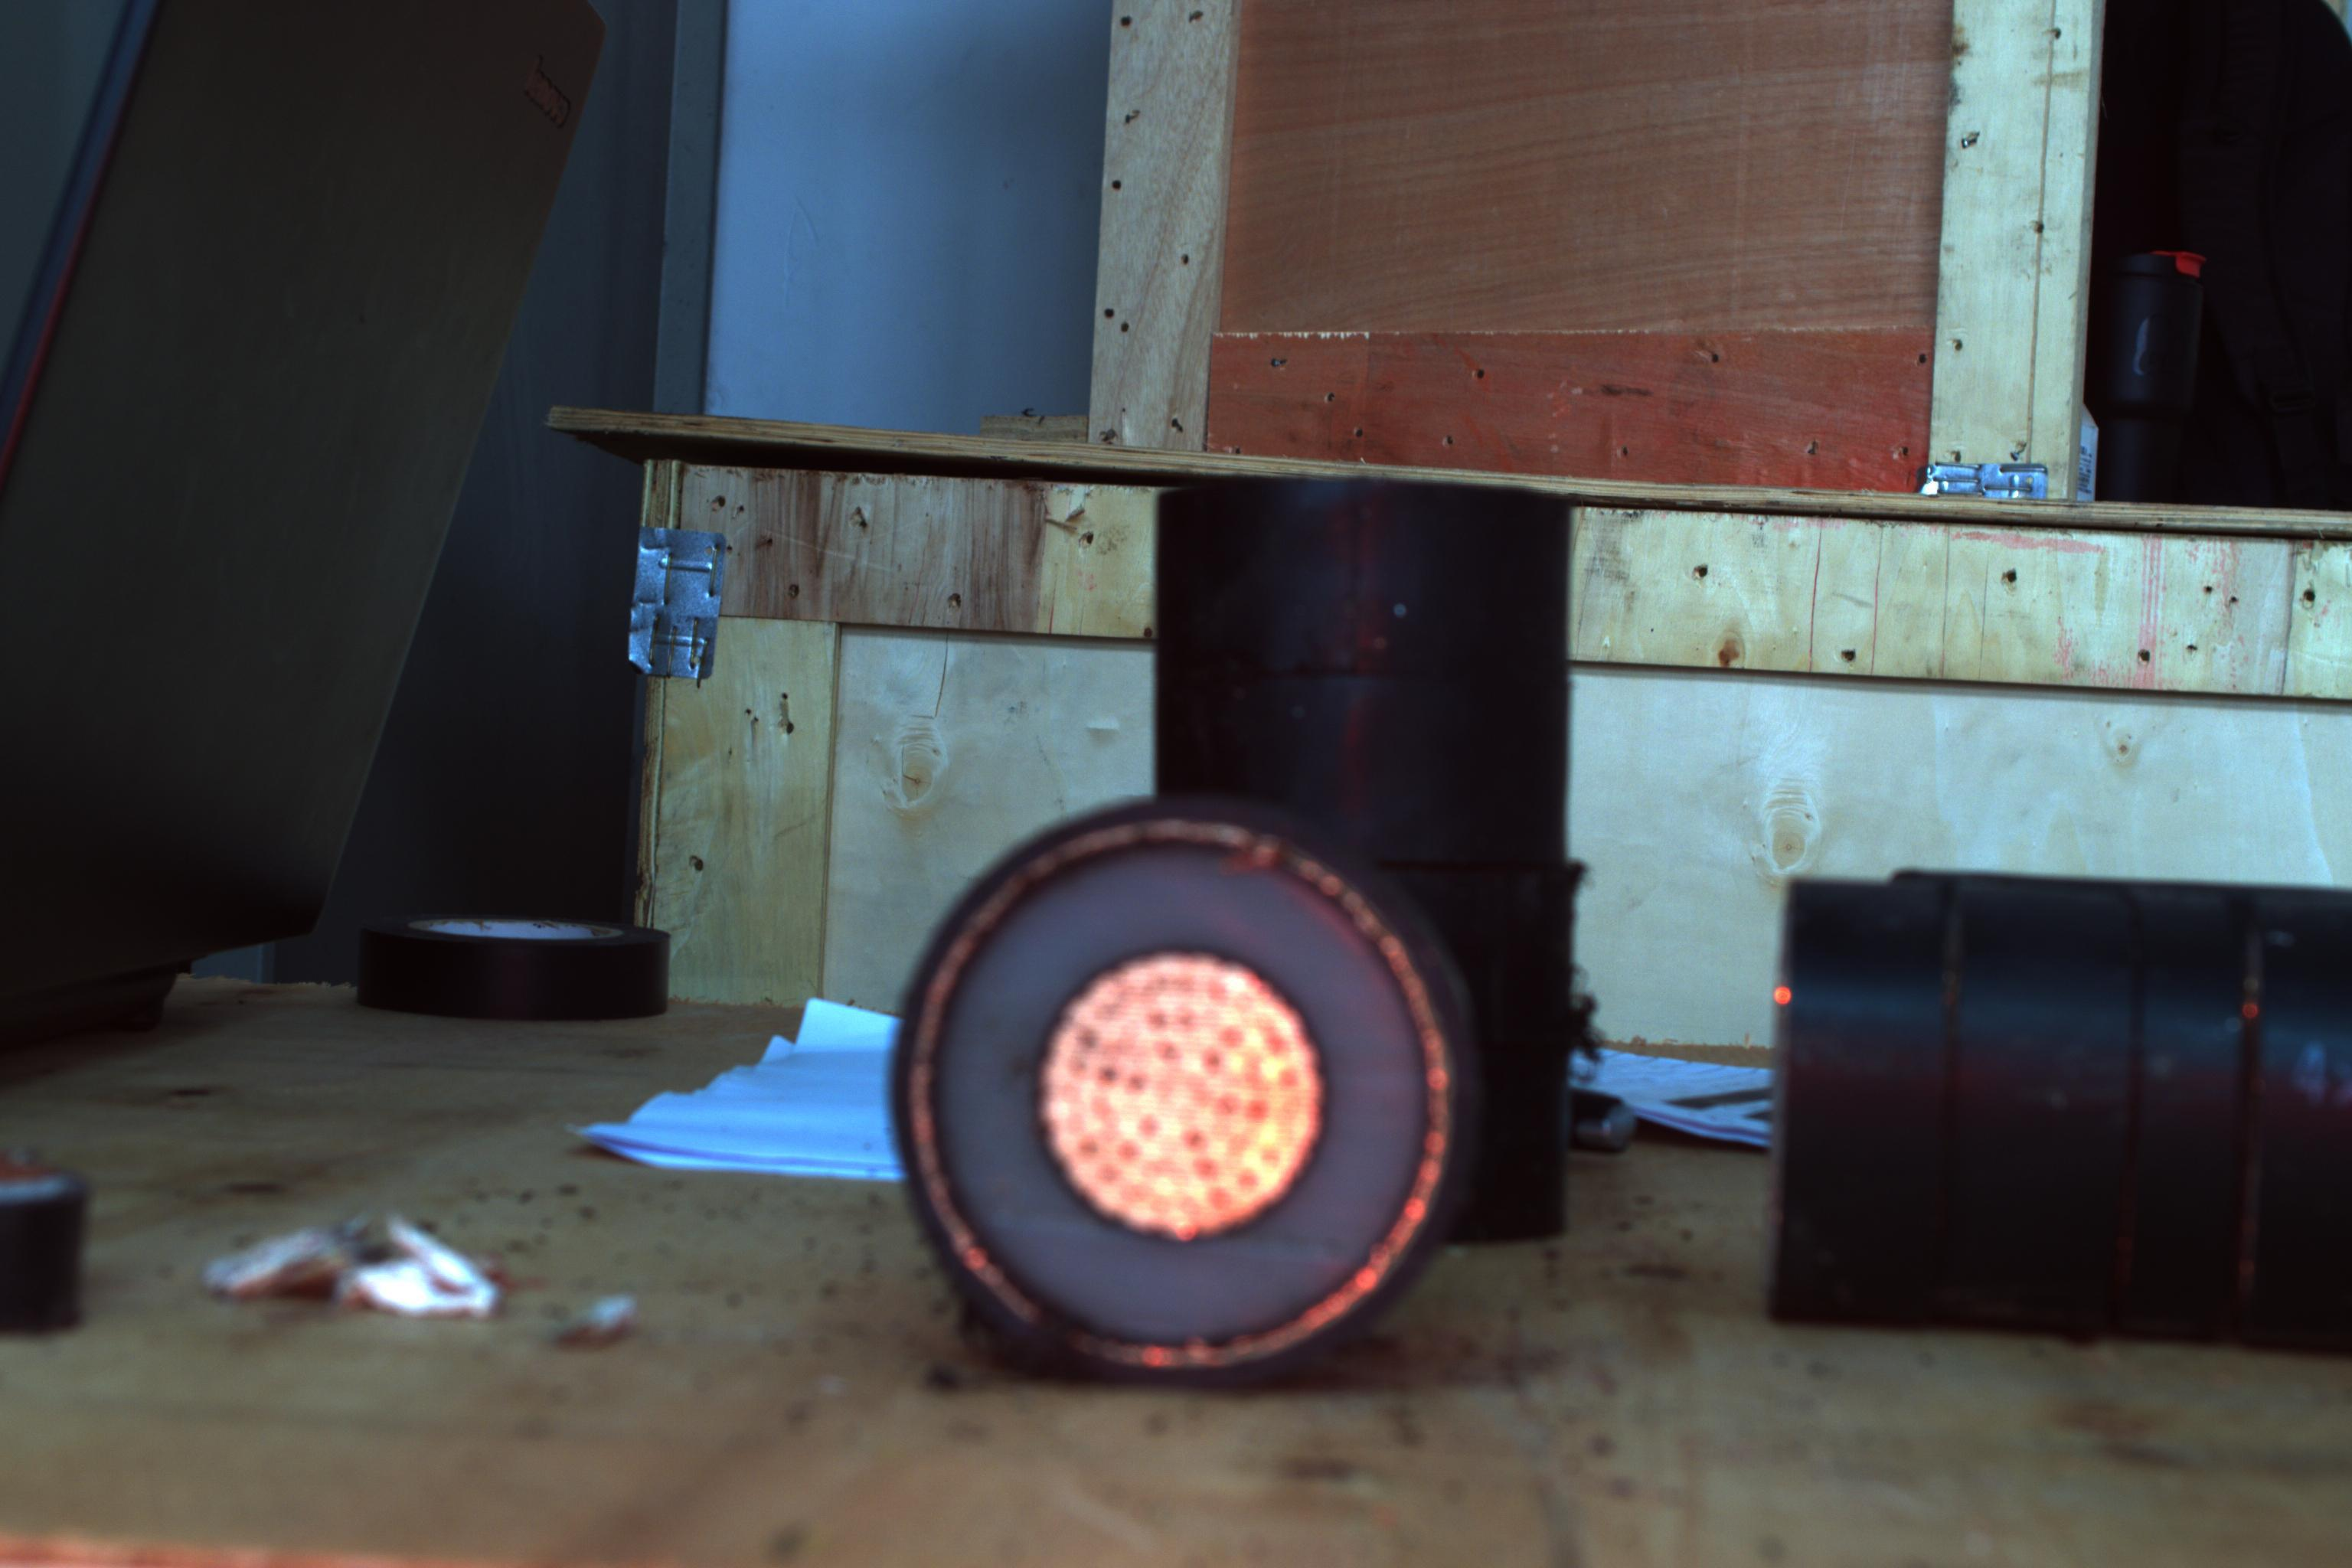YJV_26_35kV_1x630: (877, 814, 1494, 1396)
